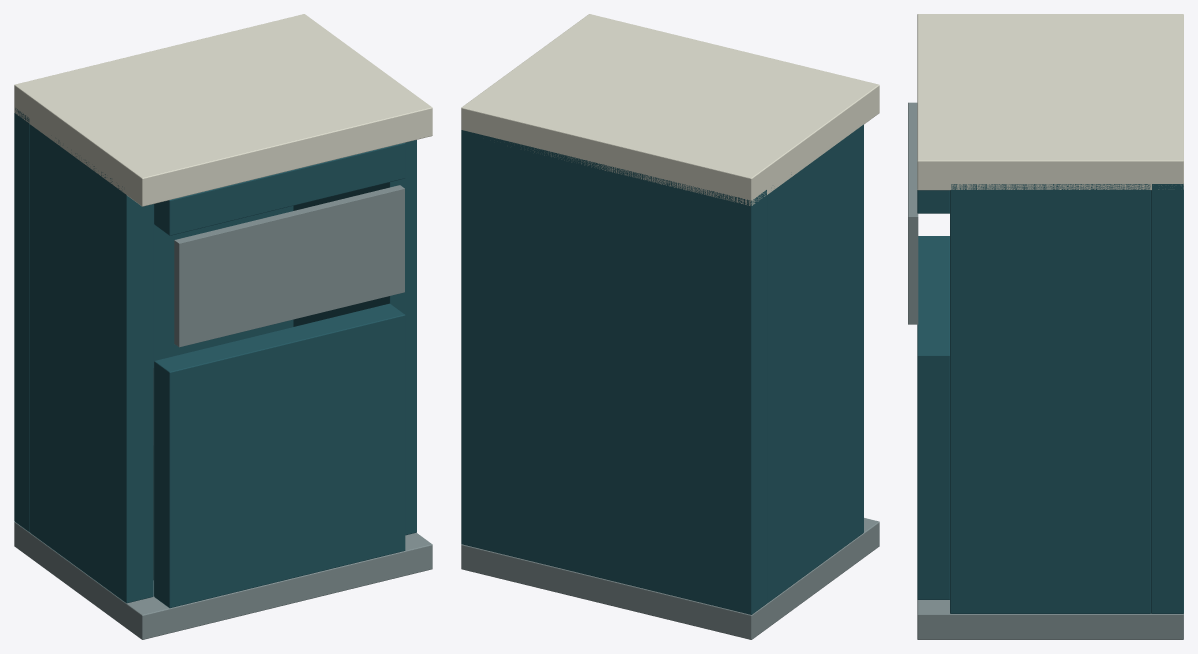
Rendered from public-library-book-return.glb.
The picture shows the model from 3 angles, left to right: view 1: azimuth 30°, elevation 25°; view 2: azimuth 150°, elevation 25°; view 3: azimuth 270°, elevation 25°; orthographic projection. The views are drawn at different scales.
Visible parts, largest first — view 1: Front_Lower, Side, Top, Flap, Base, Back, Slot_Header, Side.001; view 2: Back, Top, Side, Base; view 3: Side.001, Top, Back, Front_Lower, Base, Flap, Slot_Header.
Part boxes in pixels (x1,y1,x2,y2): Front_Lower: (154, 303, 405, 608); Side: (30, 124, 153, 603); Top: (14, 14, 432, 206); Flap: (174, 185, 404, 347); Base: (14, 521, 432, 639); Back: (14, 108, 293, 532); Slot_Header: (154, 143, 405, 235); Side.001: (293, 140, 416, 535); Back: (461, 130, 767, 614); Top: (461, 14, 879, 205); Side: (767, 124, 863, 603); Base: (461, 518, 879, 639); Side.001: (950, 184, 1150, 613); Top: (917, 14, 1183, 190); Back: (1151, 184, 1183, 613); Front_Lower: (917, 236, 949, 599); Base: (917, 600, 1183, 639); Flap: (908, 102, 918, 324); Slot_Header: (917, 190, 949, 213).
Size of the model in its own units: 0.85 by 1.29 by 0.6725.
